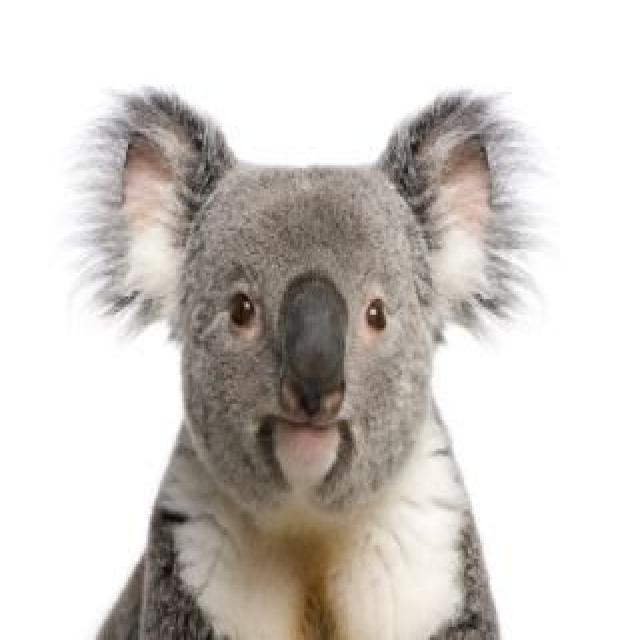Koala: (68, 77, 548, 640)
